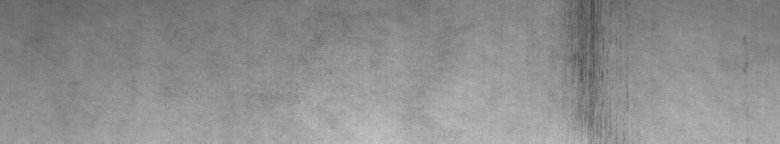ka: (566, 4, 606, 128)
